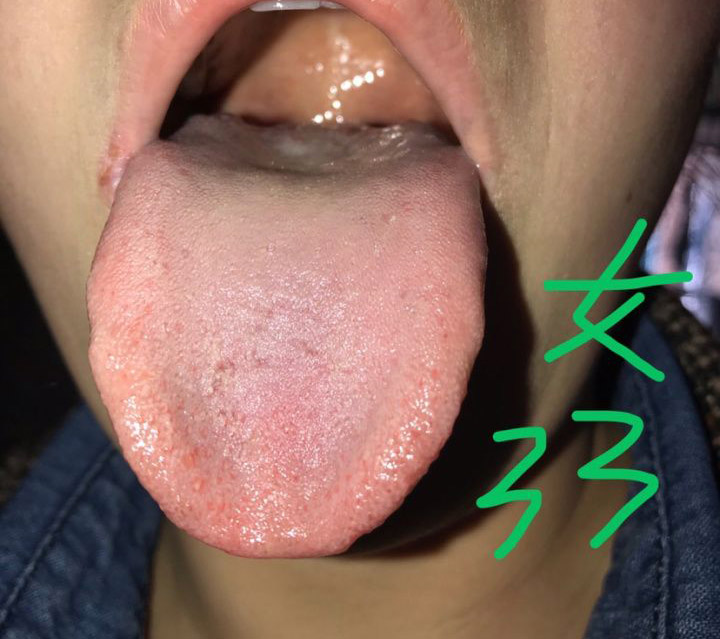hongdianshe: (167, 396, 315, 515)
huangtaishe: (85, 115, 486, 559)
